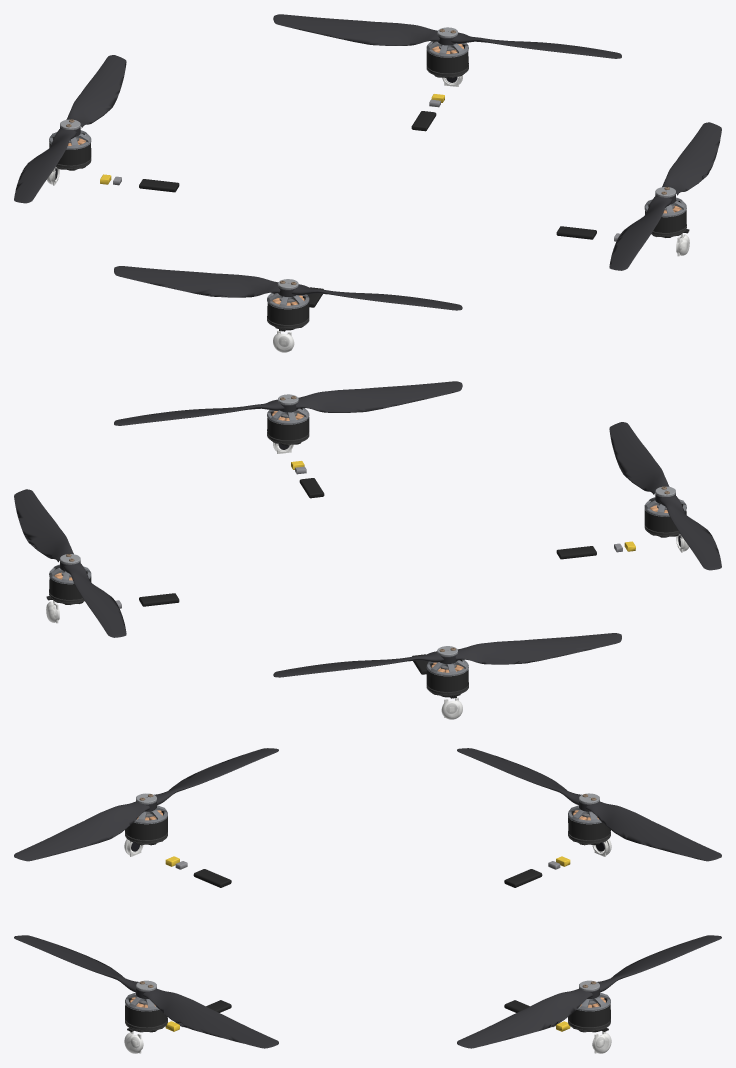
Rendered from x650_propulsion.glb.
3 views of the same model, one above another, from view 1: azimuth 30°, elevation 25°; view 2: azimuth 150°, elevation 25°; view 3: azimuth 270°, elevation 25° (orthographic).
Parts seen in each view (by area): view 1: prop_cw__M4, prop_cw__M3, prop_ccw__M2, prop_ccw__M1, motor__M4, motor__M3, motor__M1, motor__M2; view 2: prop_ccw__M2, prop_ccw__M1, prop_cw__M4, prop_cw__M3, motor__M2, motor__M1, motor__M3, motor__M4; view 3: prop_cw__M4, prop_ccw__M2, prop_ccw__M1, prop_cw__M3, motor__M3, motor__M1, motor__M4, motor__M2.
Part boxes in pixels (x1,y1,x2,y2): prop_cw__M4: (114,266,462,310); prop_cw__M3: (273,14,621,58); prop_ccw__M2: (14,55,126,203); prop_ccw__M1: (609,122,721,270); motor__M4: (267,292,309,331); motor__M3: (426,41,468,78); motor__M1: (644,197,689,237); motor__M2: (49,130,91,170); prop_ccw__M2: (273,633,621,677); prop_ccw__M1: (114,381,462,425); prop_cw__M4: (609,422,721,570); prop_cw__M3: (14,489,126,637); motor__M2: (426,659,468,698); motor__M1: (267,408,309,445); motor__M3: (46,564,91,604); motor__M4: (644,497,686,537); prop_cw__M4: (14,748,278,861); prop_ccw__M2: (457,748,721,861); prop_ccw__M1: (14,935,278,1048); prop_cw__M3: (457,935,721,1048); motor__M3: (568,992,610,1032); motor__M1: (125,992,167,1032); motor__M4: (125,805,167,845); motor__M2: (568,805,610,845).
Size of what is drawn, in the model's own units: 0.7377 by 0.0733 by 0.735.
